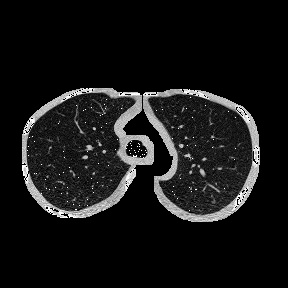PN: (212, 200, 216, 204)
